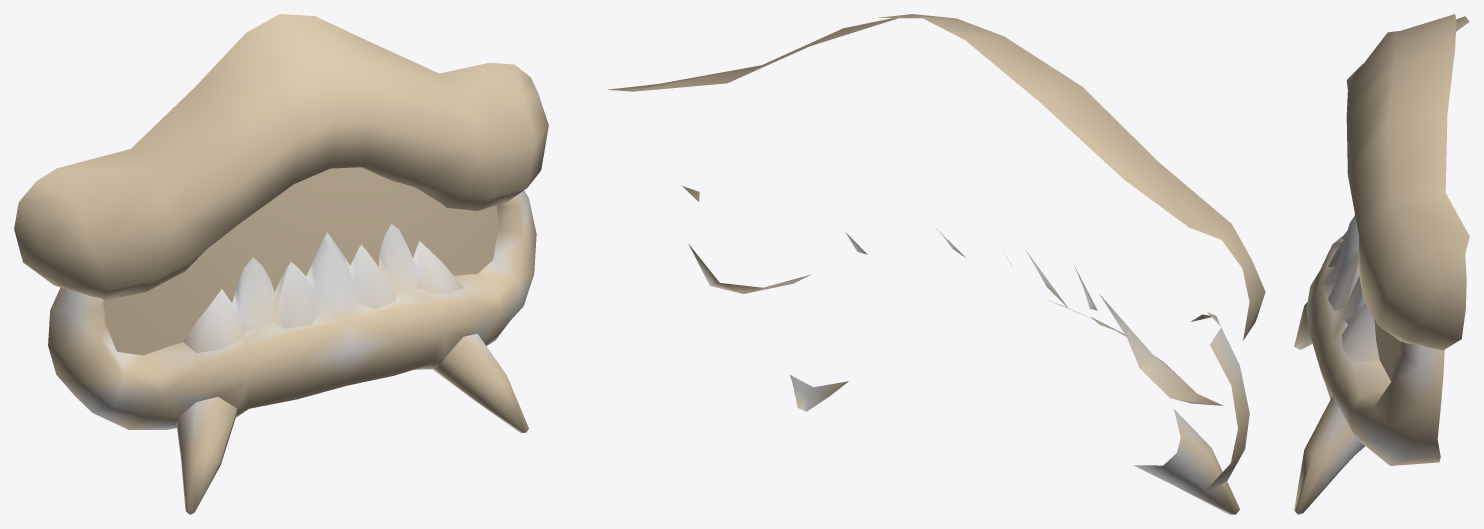
File: S12_Aquatic04_L2_Mouth.glb
The picture shows the model from 3 angles, left to right: view 1: azimuth 30°, elevation 25°; view 2: azimuth 150°, elevation 25°; view 3: azimuth 270°, elevation 25°; orthographic projection. The views are drawn at different scales.
Visible parts, largest first — view 1: S12_Aquatic04_L2_Mouth__Mouth_M__surface0__lod0; view 2: S12_Aquatic04_L2_Mouth__Mouth_M__surface0__lod0; view 3: S12_Aquatic04_L2_Mouth__Mouth_M__surface0__lod0.
Part boxes in pixels (box(x1,y1,x2,y2)): S12_Aquatic04_L2_Mouth__Mouth_M__surface0__lod0: box(14, 14, 548, 514); S12_Aquatic04_L2_Mouth__Mouth_M__surface0__lod0: box(607, 14, 1265, 514); S12_Aquatic04_L2_Mouth__Mouth_M__surface0__lod0: box(1294, 14, 1469, 514).
Bounding box in the file's own units: 0.5358 × 0.3953 × 0.1533.
